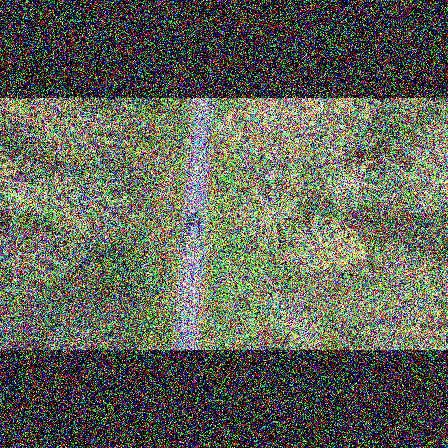Sick: (334, 164, 382, 202)
